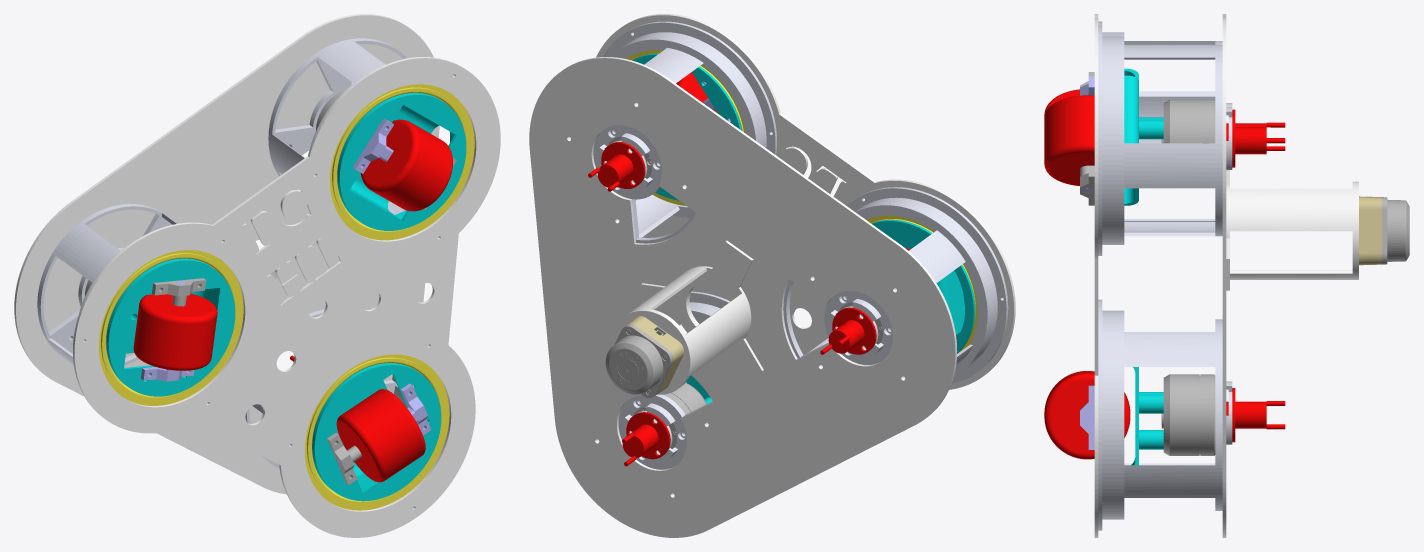
Rendered from chassis_assem.glb.
3 views of the same model, side by side, from view 1: azimuth 30°, elevation 25°; view 2: azimuth 150°, elevation 25°; view 3: azimuth 270°, elevation 25° (orthographic). The views are drawn at different scales.
Visible parts, largest first — view 1: Node10, Node12, Node16, Node13, Node15, Node14, Node3, Node2; view 2: Node10, Node15, Node16, Node12, Node9, Node13, Node2, Node5; view 3: Node15, Node10, Node16, Node2, Node3, Node12, Node9, Node5, Node8, Node14.
Part boxes in pixels (x1,y1,x2,y2): Node10: (14,14,500,537); Node12: (106,93,466,501); Node16: (133,119,452,482); Node13: (99,84,474,510); Node15: (37,38,453,507); Node14: (141,118,431,466); Node3: (159,207,427,479); Node2: (85,89,455,484); Node10: (529,14,1015,537); Node15: (568,21,1008,496); Node16: (588,72,910,466); Node12: (632,53,975,403); Node9: (605,324,673,397); Node13: (626,50,977,353); Node2: (610,130,910,452); Node5: (627,316,682,394); Node15: (1098,21,1232,530); Node10: (1094,14,1358,537); Node16: (1044,89,1285,459); Node2: (1080,72,1215,455); Node3: (1080,99,1215,455); Node12: (1124,68,1163,465); Node9: (1381,197,1409,264); Node5: (1359,196,1381,252); Node8: (1163,142,1213,435); Node14: (1080,76,1094,449).
Bounding box in the file's own units: 437 × 459 × 297.
